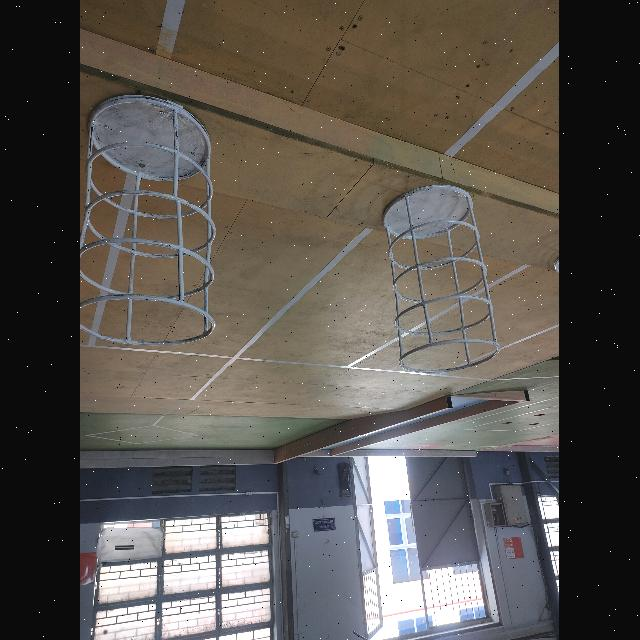S: (80, 94, 217, 345), (383, 184, 502, 373)
